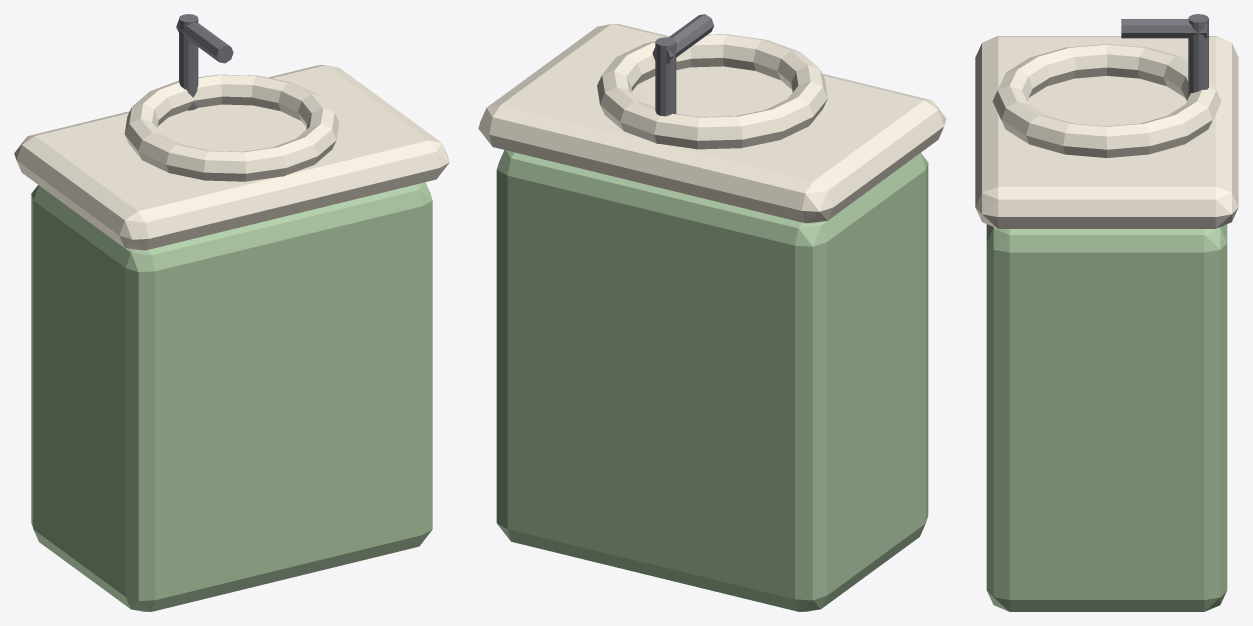
The model's file is cozy-home-interiors-basin-unit-268a46dc.glb.
3 renders of one model, left to right at view 1: azimuth 30°, elevation 25°; view 2: azimuth 150°, elevation 25°; view 3: azimuth 270°, elevation 25°, orthographic. The views are drawn at different scales.
Parts seen in each view (by area): view 1: basin-unit; view 2: basin-unit; view 3: basin-unit.
Boxes of the visible parts, x1,y1,x2,y2 form: basin-unit: (14,14,449,611); basin-unit: (478,14,946,611); basin-unit: (975,14,1238,611).
Size of the model in its own units: 0.7 by 1.01 by 0.46.
